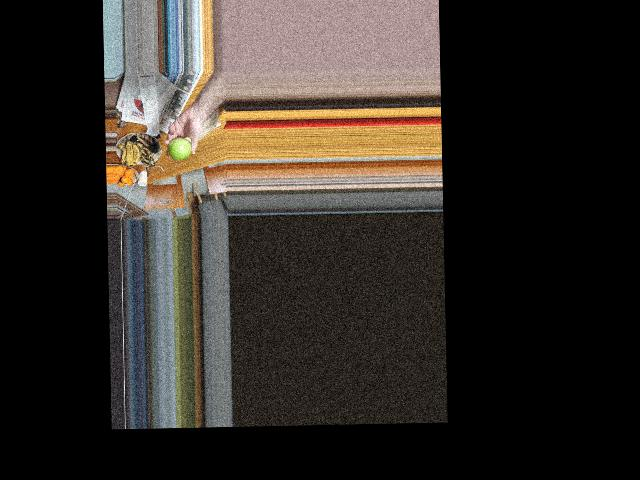apple: (167, 137, 190, 161)
